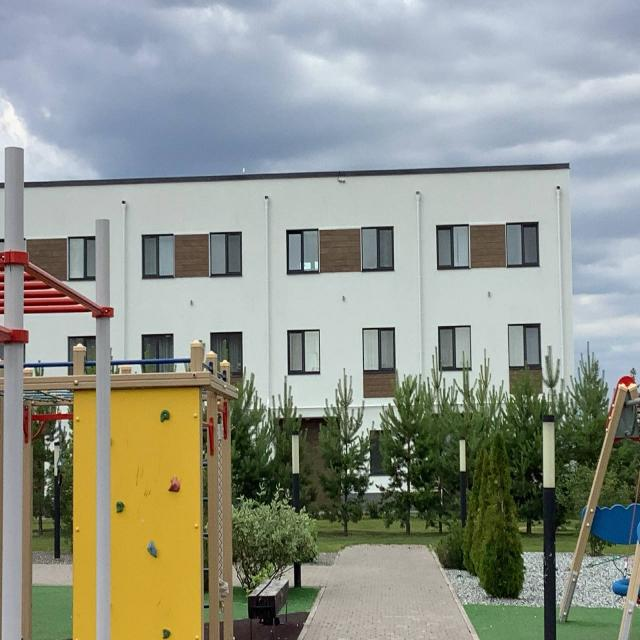Building: (24, 168, 575, 428)
